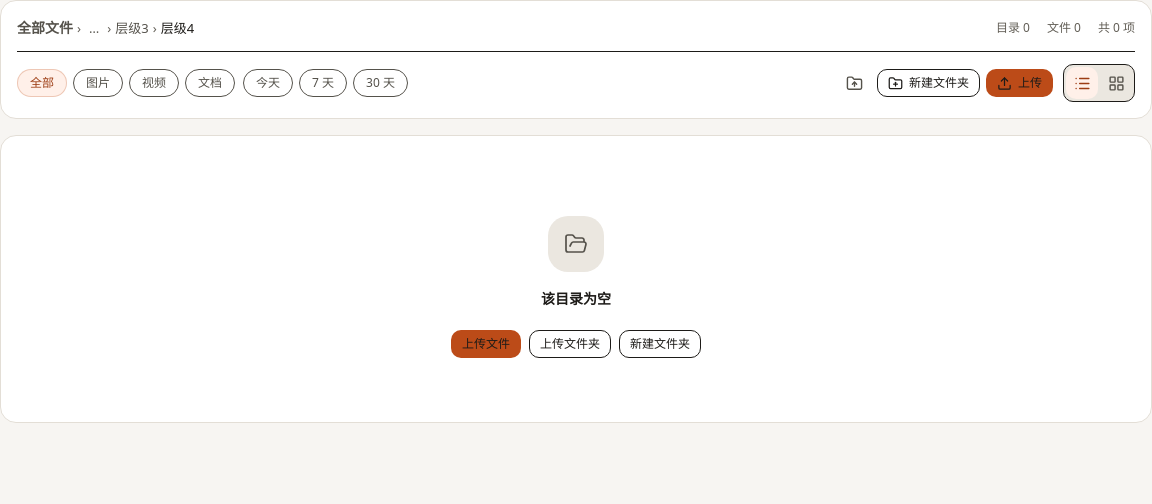
Test: breadcrumb collapses middle levels into popover when deeper than 4 levels
expect the link "层级4" is shown: met, box [161, 18, 194, 38]
expect the link "层级3" is shown: met, box [115, 18, 149, 38]
Click the button named "更多层级" at (94, 28), box [85, 22, 103, 34]
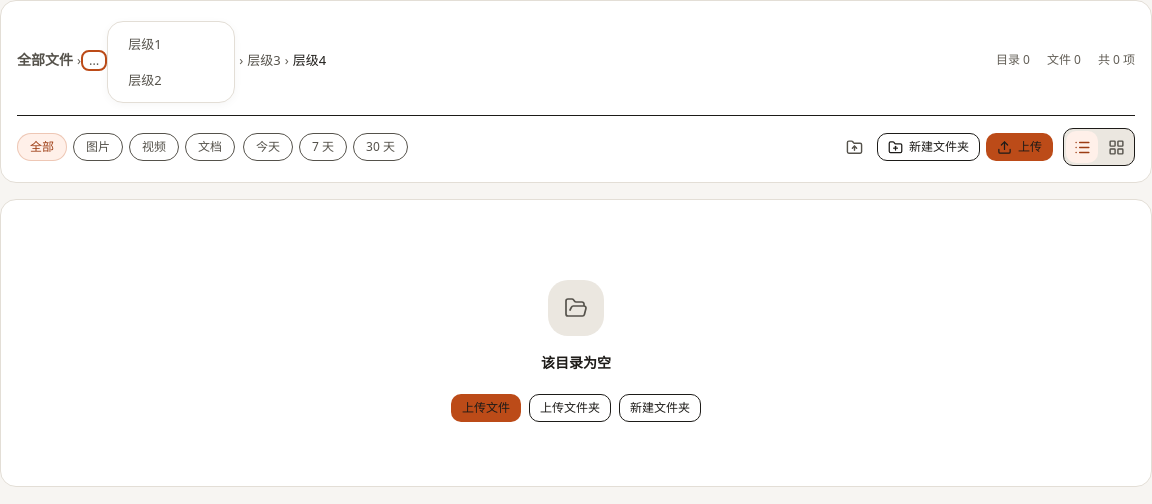
Press Escape
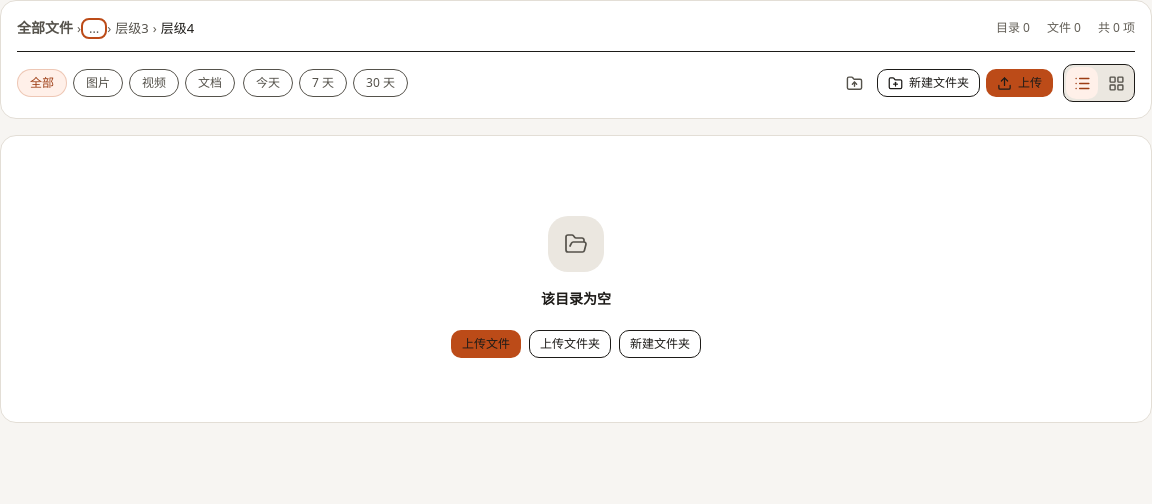
expect the link "层级4" is shown: met, box [161, 18, 194, 38]
expect the link "层级1" is gone: met
